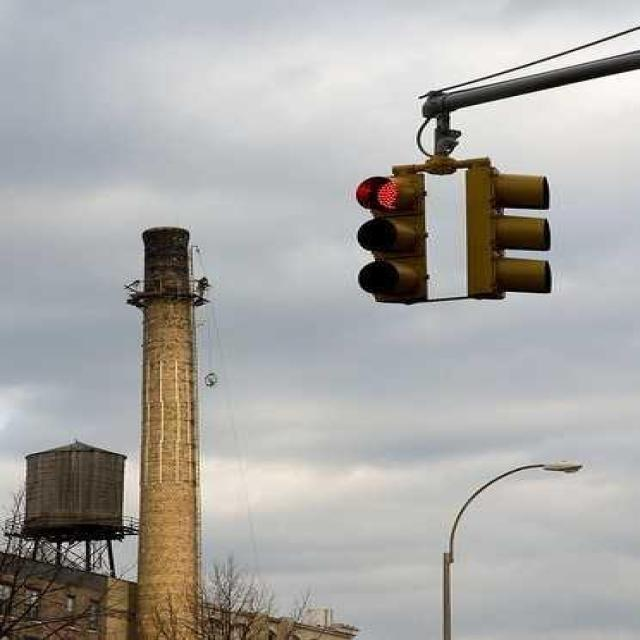Traffic Light -Red-: (353, 166, 428, 308)
